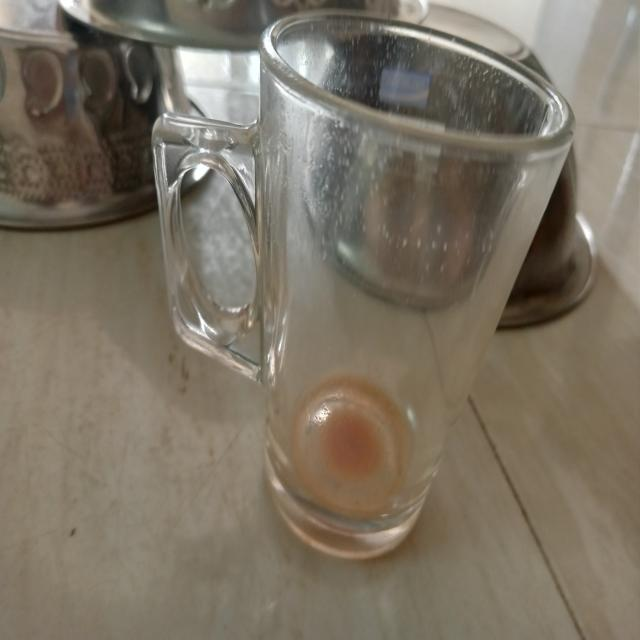glass-VX4N: (148, 8, 576, 567)
